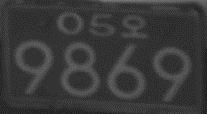0: (55, 10, 84, 36)
5: (88, 11, 114, 38)
6: (106, 44, 147, 100)
8: (60, 40, 101, 98)
9: (13, 38, 54, 96), (151, 45, 192, 102)
오: (120, 13, 147, 38)
